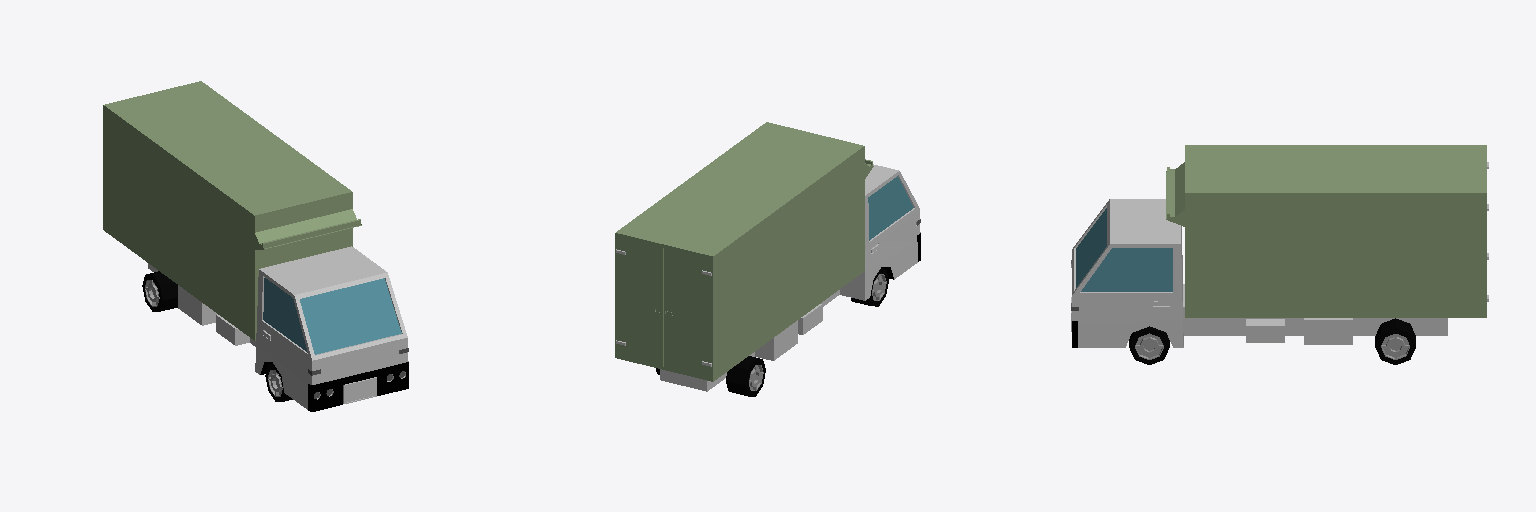
Rendered from Truck.obj.
3 renders of one model, left to right at view 1: azimuth 30°, elevation 25°; view 2: azimuth 150°, elevation 25°; view 3: azimuth 270°, elevation 25°, orthographic.
Parts seen in each view (by area): view 1: Truck_Cube; view 2: Truck_Cube; view 3: Truck_Cube.
Boxes of the visible parts, x1,y1,x2,y2 form: Truck_Cube: [103, 81, 408, 411]; Truck_Cube: [615, 122, 920, 396]; Truck_Cube: [1071, 145, 1488, 364].
Size of the model in its own units: 0.5973 by 1.02 by 2.21.